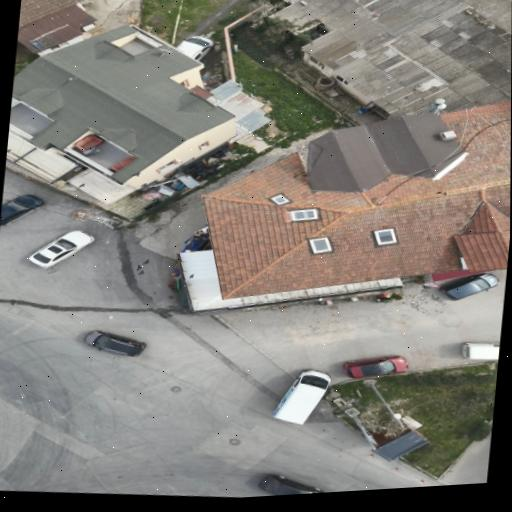car: (273, 369, 331, 423), (28, 231, 93, 267), (440, 273, 498, 300), (83, 331, 145, 356), (342, 356, 407, 378), (0, 195, 44, 226), (259, 475, 322, 494), (177, 37, 212, 60), (462, 343, 499, 361)
